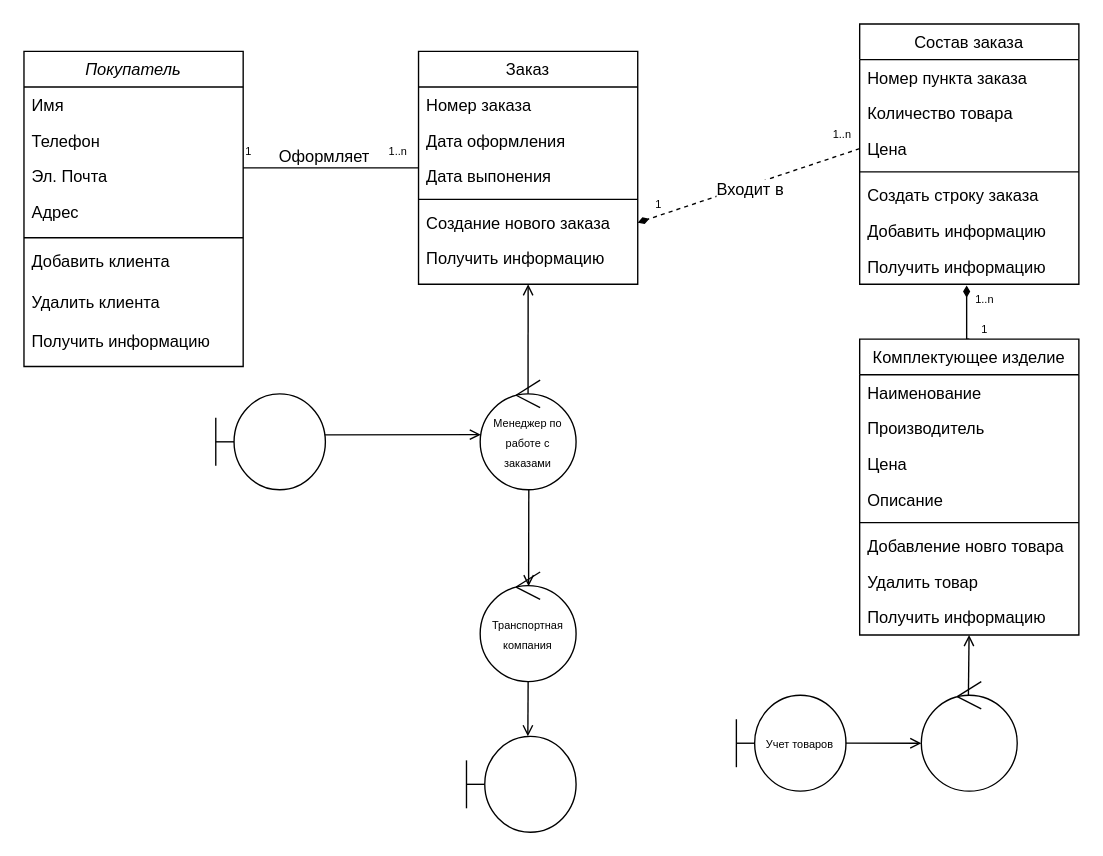
Some shapes in this 1103 by 856 pixel diagram are drawn without their labels. Each missing label, with the centre of its shape:
Добавление нового заказа: (269,441)
Завскладом: (968,735)
Отправка заказа покупателям: (520,783)
